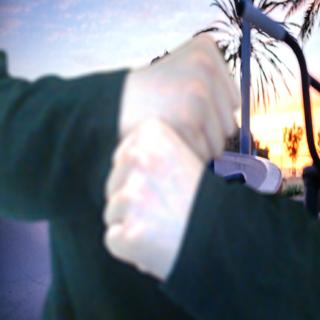CAREFUL: (89, 27, 245, 284)
